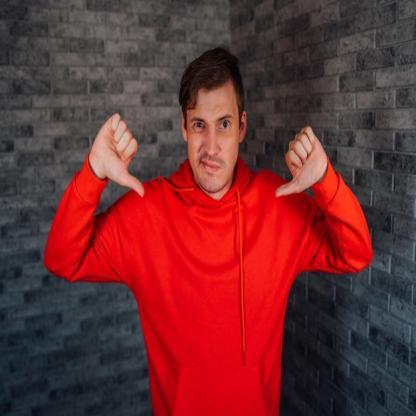thumb_down: (86, 110, 149, 199), (272, 121, 324, 199)
